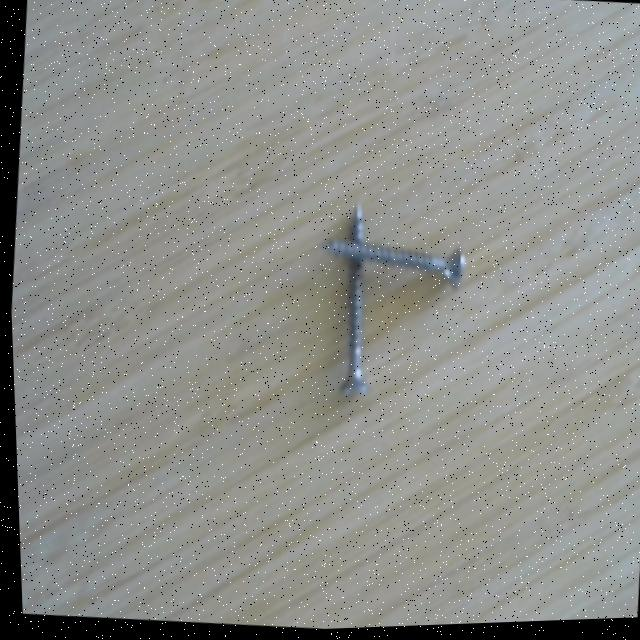Black screw: (311, 233, 466, 300), (329, 198, 371, 401)
